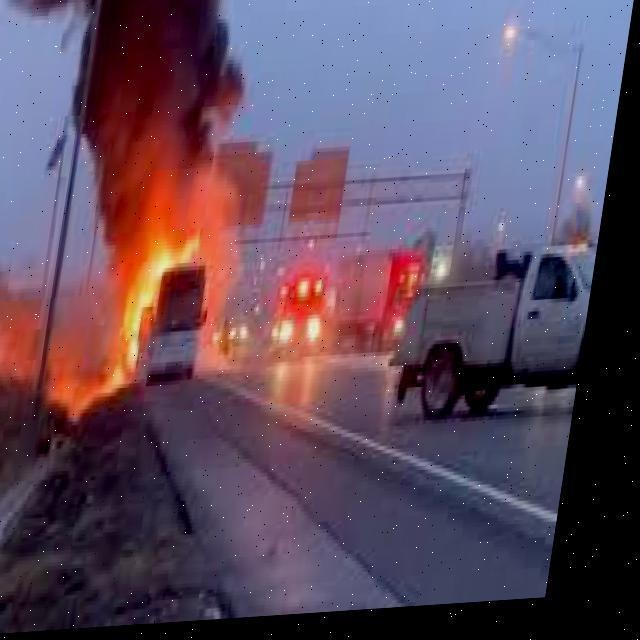Fire: (94, 204, 226, 396)
